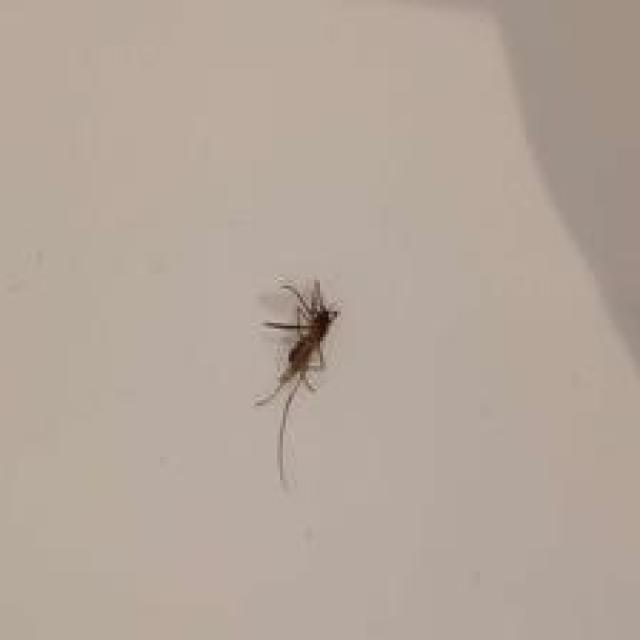Culex: (253, 276, 341, 487)
